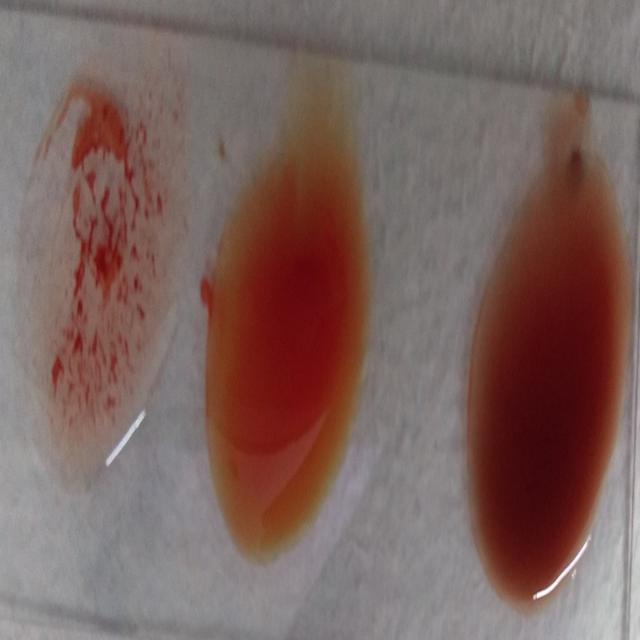D: (22, 68, 182, 477)
